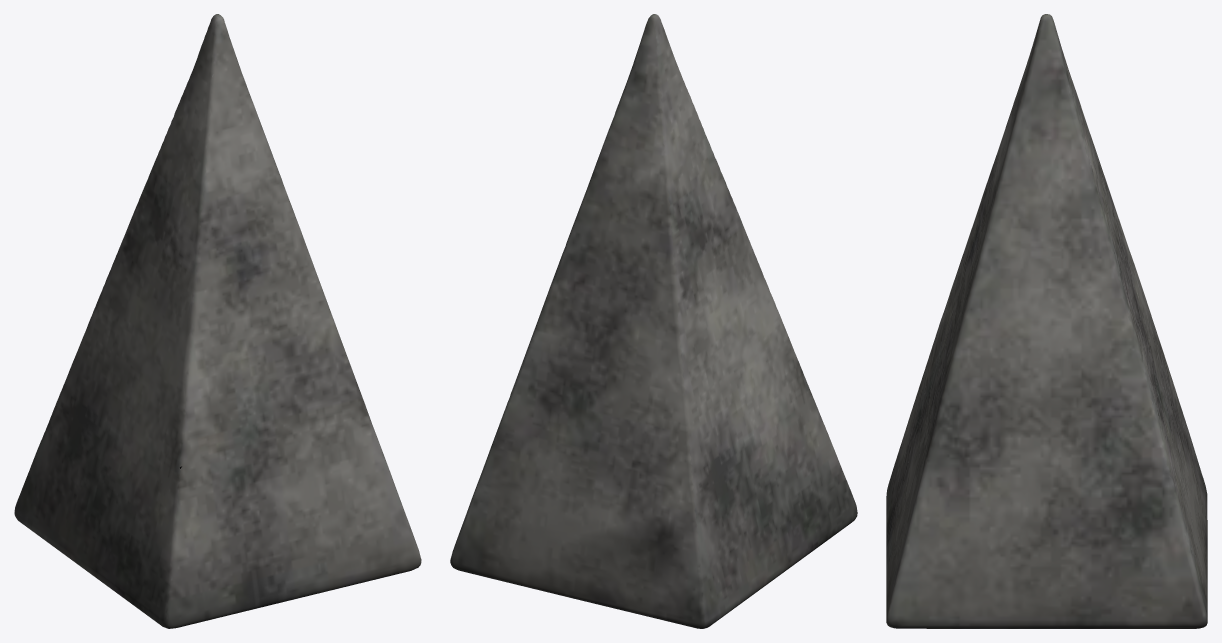
Rendered from granite-obelisk-v001.glb.
The picture shows the model from 3 angles, left to right: view 1: azimuth 30°, elevation 25°; view 2: azimuth 150°, elevation 25°; view 3: azimuth 270°, elevation 25°; orthographic projection. The views are drawn at different scales.
Parts seen in each view (by area): view 1: granite-obelisk; view 2: granite-obelisk; view 3: granite-obelisk.
Part boxes in pixels (x1=…): granite-obelisk: x1=14, y1=14, x2=421, y2=628; granite-obelisk: x1=450, y1=14, x2=857, y2=628; granite-obelisk: x1=886, y1=14, x2=1207, y2=628.
Bounding box in the file's own units: 0.913 × 1.8 × 0.9491.
1 material, 1 textured.
